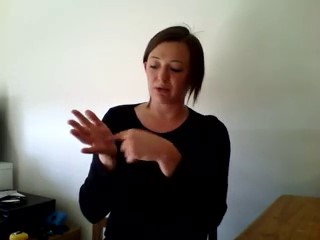T: (63, 103, 166, 172)
